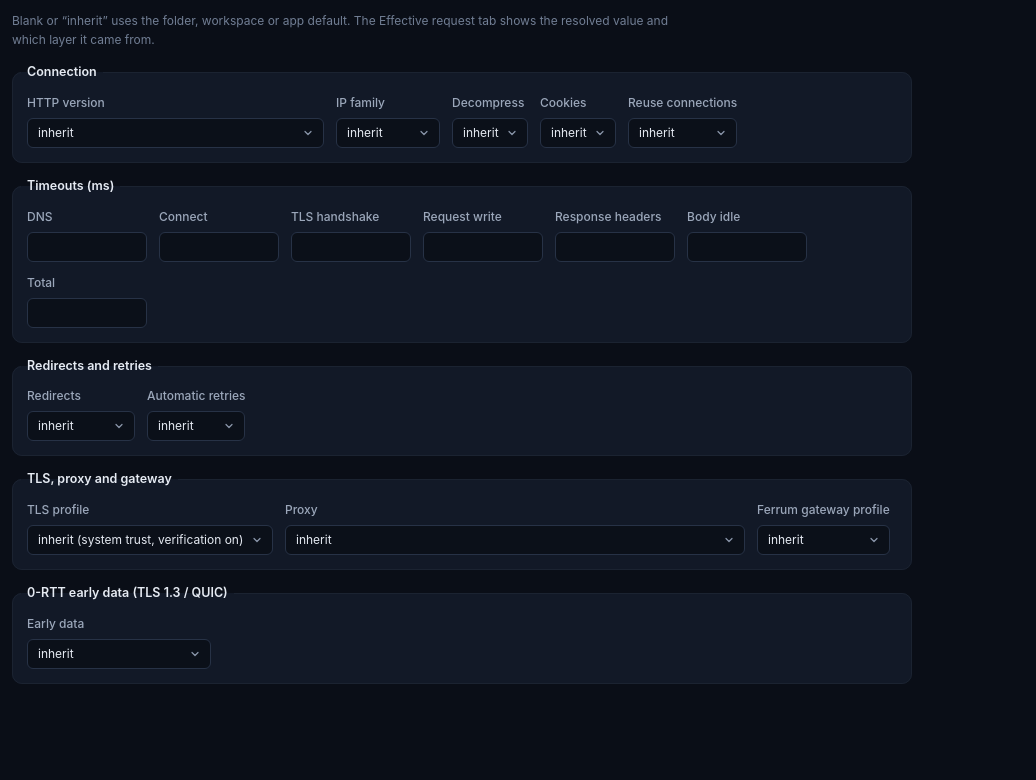
UDP through a proxy profile › marks HBONE profiles as carrying UDP and refuses HTTP/SOCKS proxies for UDP
Select "mesh sidecar (hbone 127.0.0.1:17606) — carries UDP as a datagram tunnel" in the dropdown labelled "Proxy". click: (515, 540)
box: [285,525,745,555]
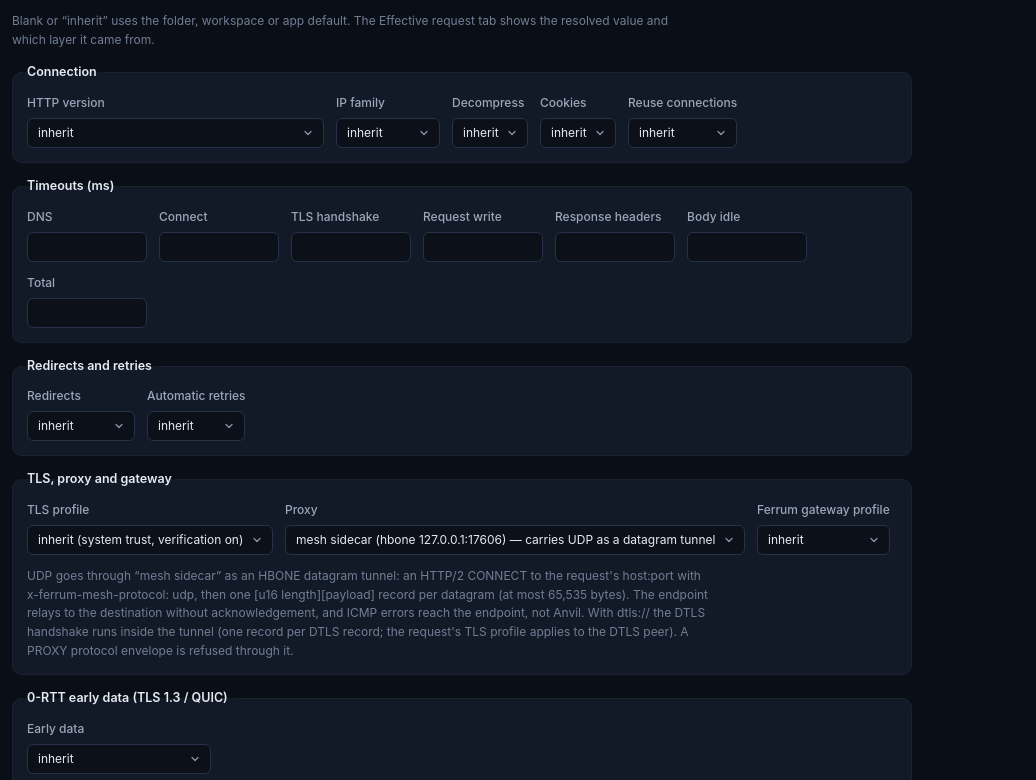
Now the text with test id "udp-proxy-help" shows "HBONE datagram tunnel", box [216,568,701,583]
Now the text with test id "udp-proxy-help" shows "x-ferrum-mesh-protocol: udp", box [27,567,708,660]
Now the text with test id "udp-proxy-help" shows "65,535", box [27,587,708,658]
Select "istio ztunnel (hbone 127.0.0.1:17606) — carries UDP as a datagram tunnel" in the dropdown labelled "Proxy". click: (515, 540)
box: [285,525,745,555]
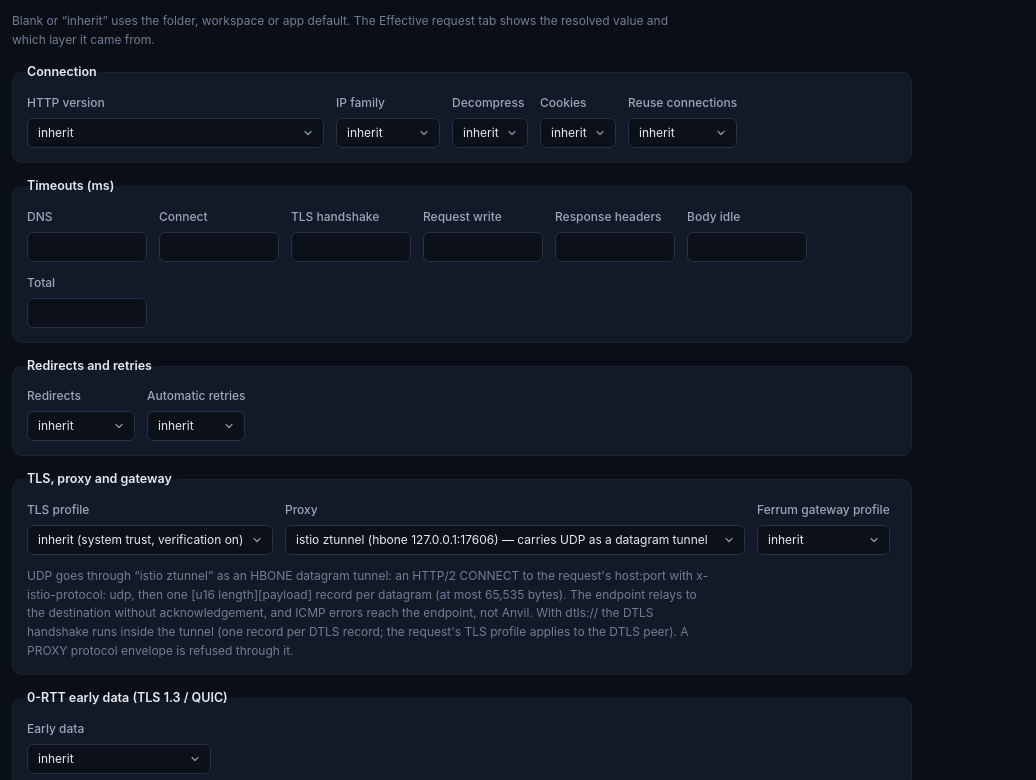
Now the text with test id "udp-proxy-help" shows "x-istio-protocol: udp", box [27,567,708,660]
Select "corp proxy (http 127.0.0.1:3128) — TCP only: refused for UDP" in the dropdown labelled "Proxy". click: (515, 540)
box: [285,525,745,555]
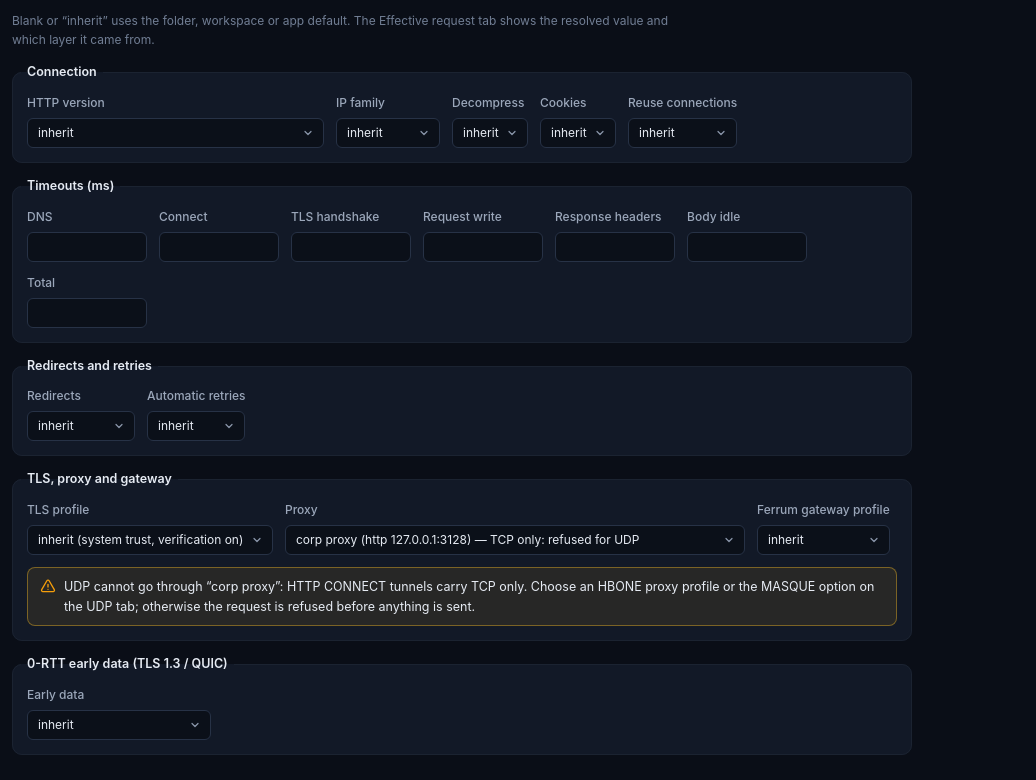
Now the message shows "HTTP CONNECT tunnels carry TCP only", box [27,567,897,626]
Now the text with test id "udp-proxy-help" is gone
